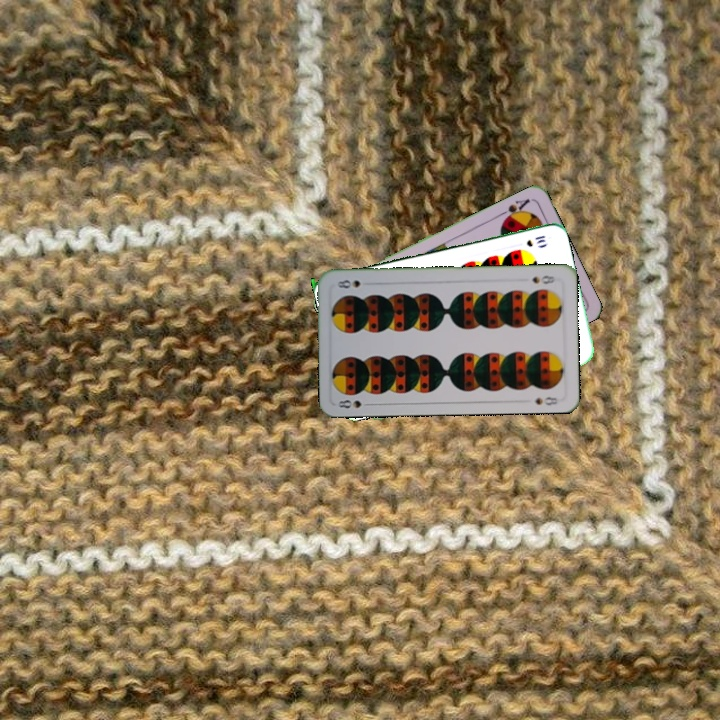S10: (522, 231, 548, 249)
S8: (334, 396, 375, 411), (528, 271, 557, 287)
SA: (495, 195, 532, 224)
